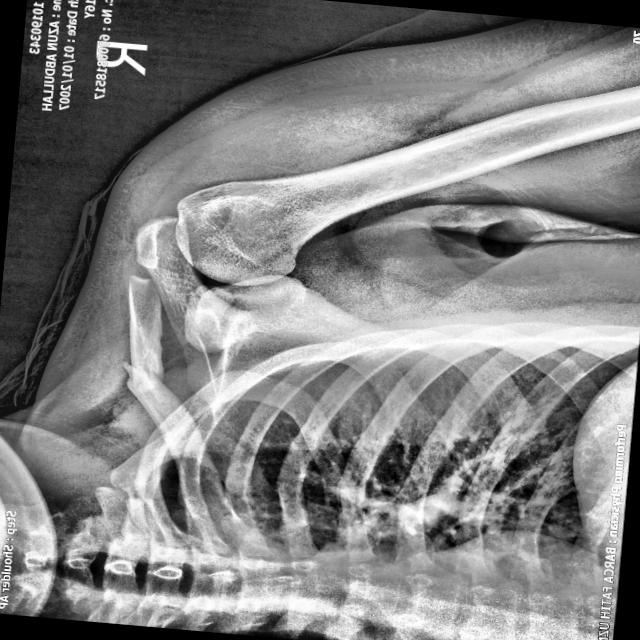Fracture: (112, 344, 174, 406)
